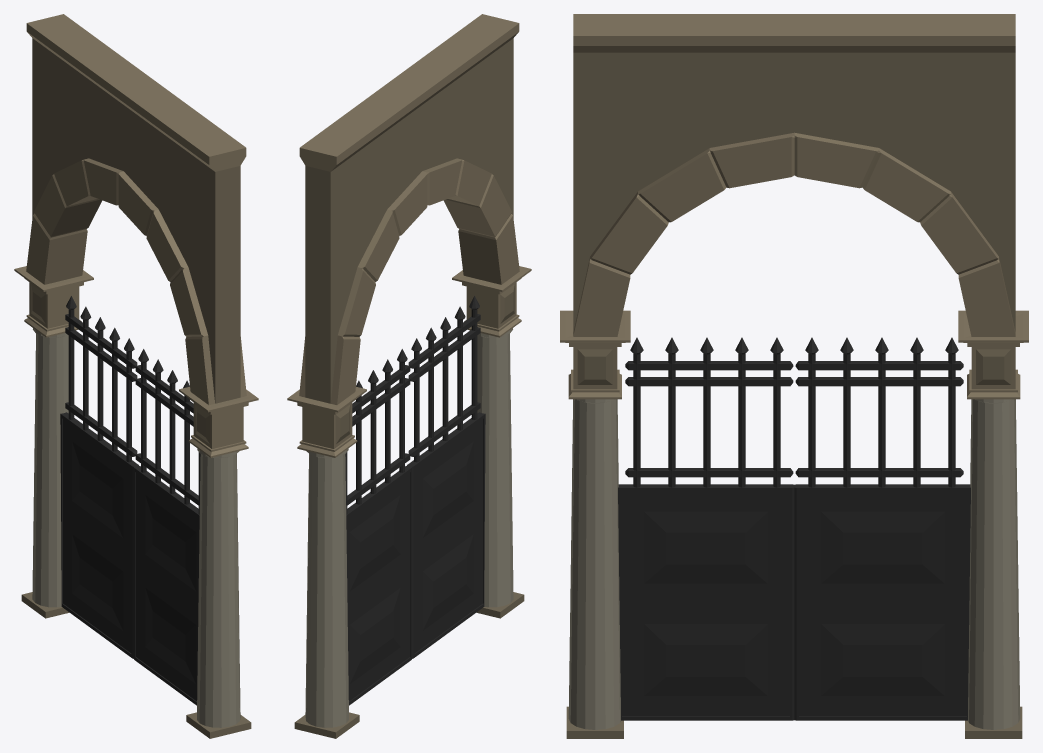
The model's file is DorrWay.fbx.
3 views of the same model, side by side, from view 1: azimuth 30°, elevation 25°; view 2: azimuth 150°, elevation 25°; view 3: azimuth 270°, elevation 25° (orthographic). The views are drawn at different scales.
Visible parts, largest first — view 1: DoorWay; view 2: DoorWay; view 3: DoorWay.
Part boxes in pixels (bbox=[...]): DoorWay: bbox=[14, 14, 258, 738]; DoorWay: bbox=[287, 14, 531, 738]; DoorWay: bbox=[560, 14, 1028, 738].
Bounding box in the file's own units: 31.91 × 350 × 212.
